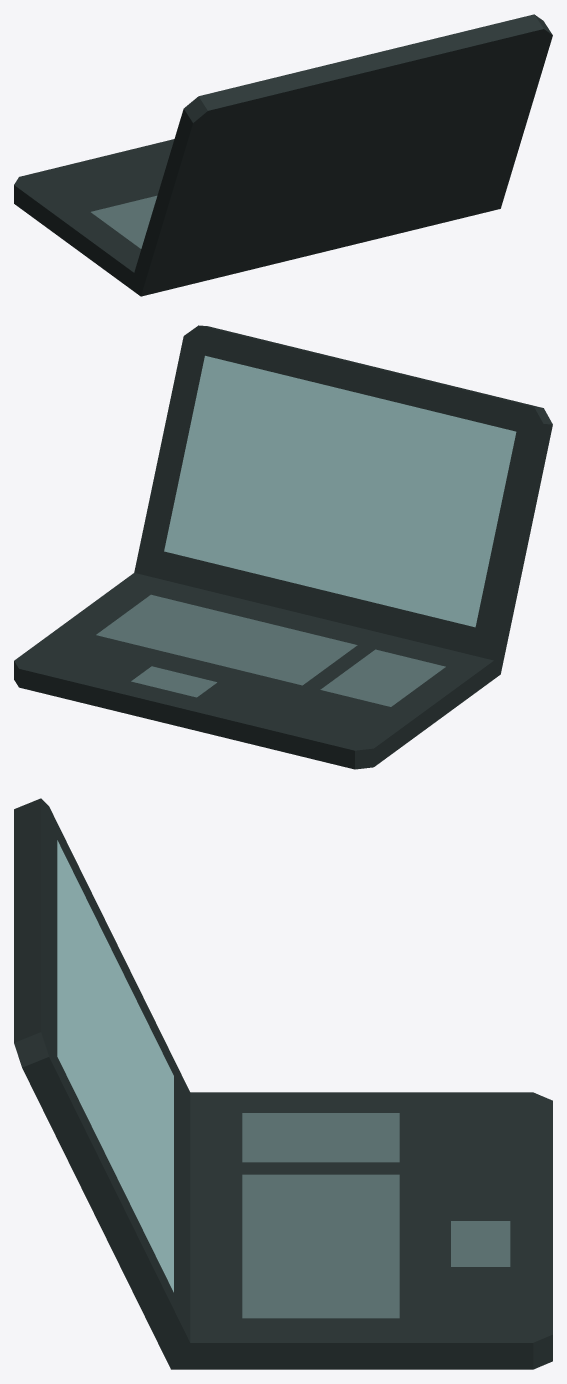
The model's file is laptop.glb.
3 renders of one model, top to bottom at view 1: azimuth 30°, elevation 25°; view 2: azimuth 150°, elevation 25°; view 3: azimuth 270°, elevation 25°, orthographic. The views are drawn at different scales.
Bounding box in the file's own units: 2.64 × 1.62 × 2.4.
